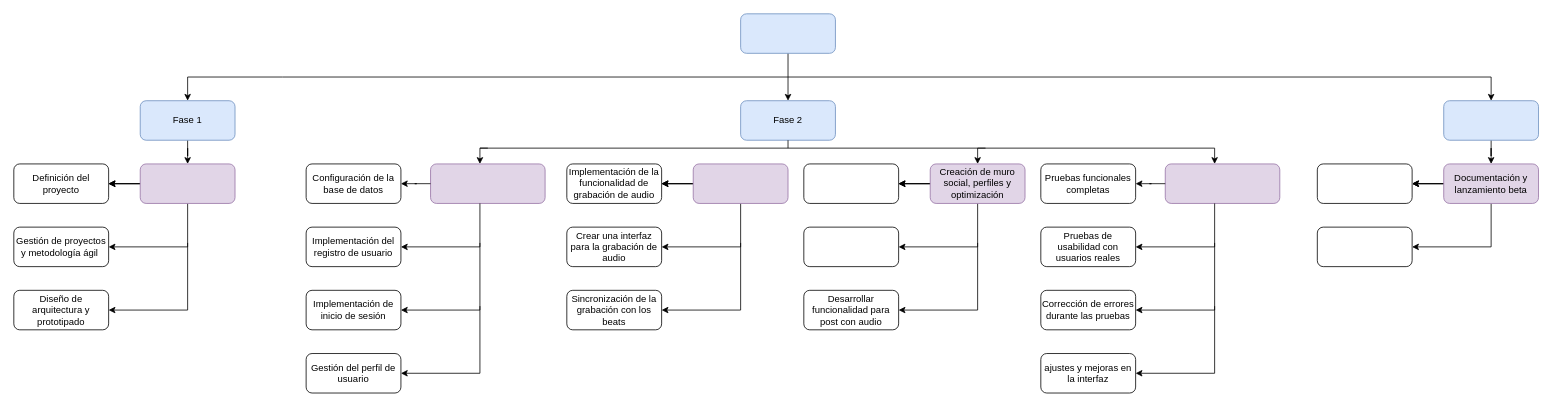
This 1552x407 diagram has some shape labels left out. Each missing label, with the centre of its shape:
Desarrollo del muro social: pixel 851 183
Documentación y preparación del lanzamiento beta: pixel 1364 183
Fase 3: pixel 1491 120
Implementación de grabación de audio: pixel 740 183
implementación de interacciones: pixel 851 246
Implementación del sistema de autenticación y gestión de usuario: pixel 487 183
Inicio del proyecto: pixel 187 183
Lanzamiento y cierre de proyecto.: pixel 1364 246
NeoCollab: pixel 787 33
Pruebas de sistema y refinamientos: pixel 1222 183
